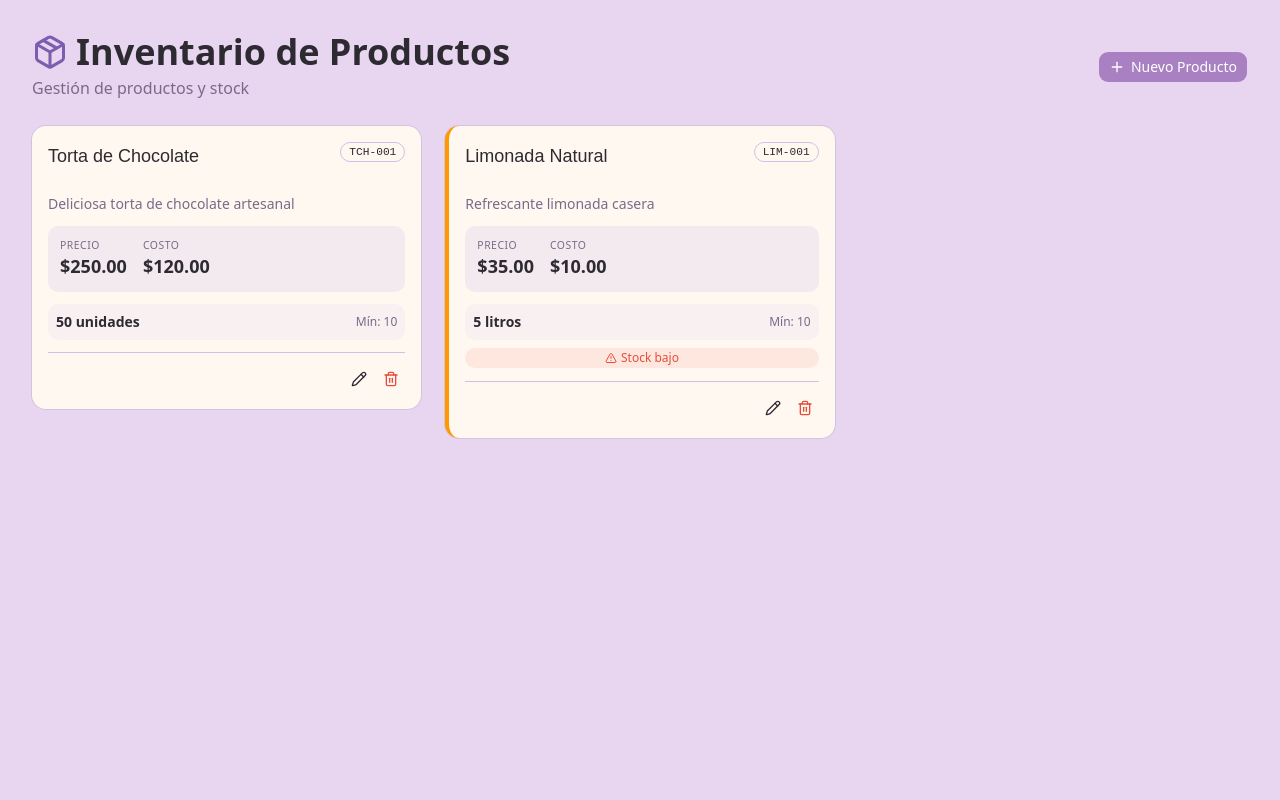
Test: Inventario Component › should open dialog for new product
Check: the text "Torta de Chocolate" is shown, box [48, 142, 199, 170]
Click the button "Nuevo Producto". click: coordinates (1173, 67)
box: [1098, 51, 1248, 83]
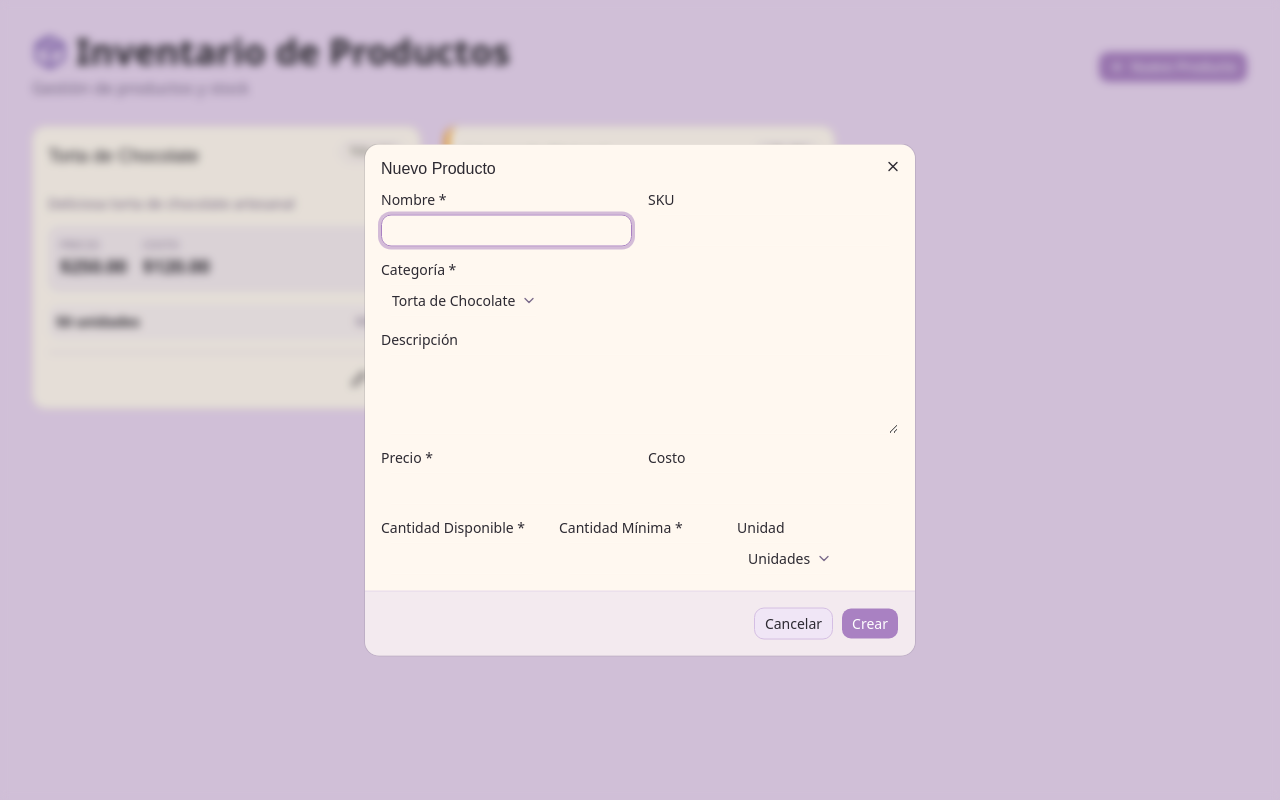
Check: the dialog is shown, box [365, 144, 915, 656]
